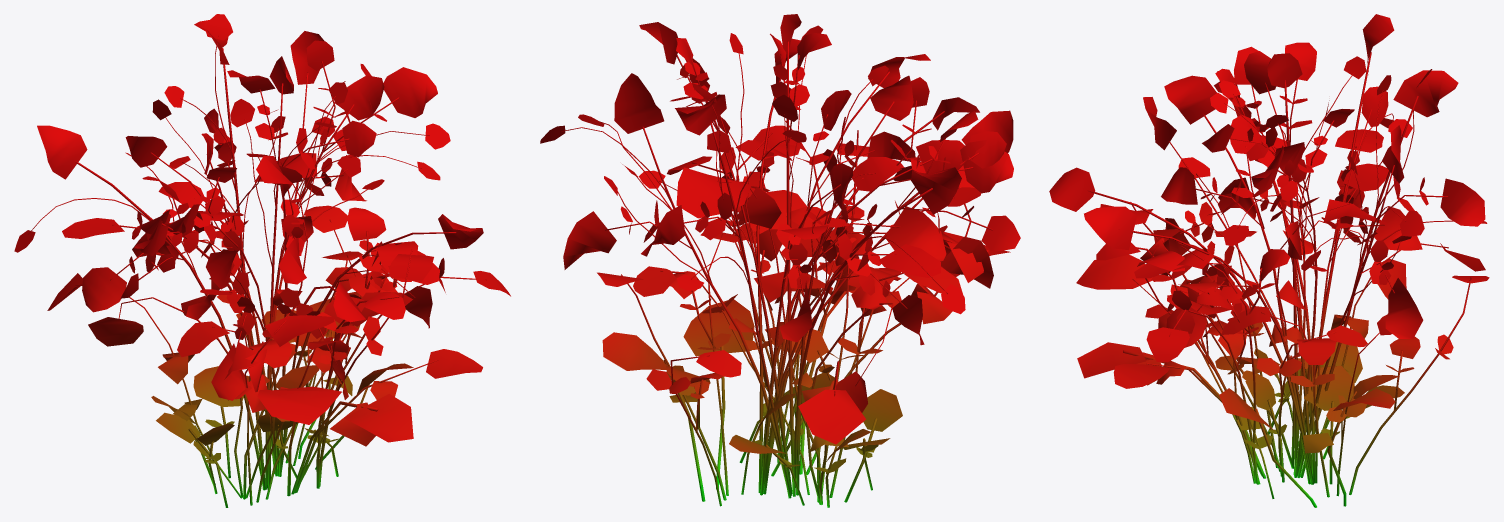
Rendered from SM_Coriander_5.fbx.
3 views of the same model, side by side, from view 1: azimuth 30°, elevation 25°; view 2: azimuth 150°, elevation 25°; view 3: azimuth 270°, elevation 25° (orthographic). The views are drawn at different scales.
Visible parts, largest first — view 1: _f4zu_Var6_LOD3; view 2: _f4zu_Var6_LOD3; view 3: _f4zu_Var6_LOD3.
Part boxes in pixels (<box>): _f4zu_Var6_LOD3: <box>14,14,510,507</box>; _f4zu_Var6_LOD3: <box>540,14,1020,507</box>; _f4zu_Var6_LOD3: <box>1049,14,1489,507</box>.
Bounding box in the file's own units: 37.08 × 39.34 × 36.31.
